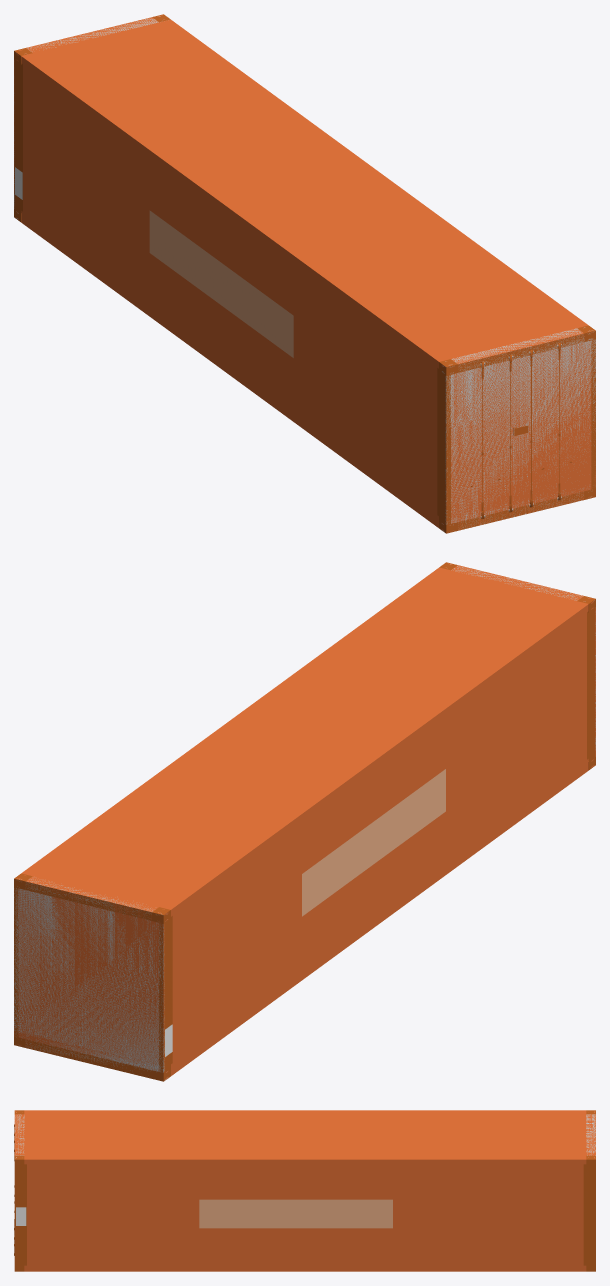
Rendered from s_containers_40_beamng.dae.
The picture shows the model from 3 angles, top to bottom: view 1: azimuth 30°, elevation 25°; view 2: azimuth 150°, elevation 25°; view 3: azimuth 270°, elevation 25°; orthographic projection. The views are drawn at different scales.
Parts seen in each view (by area): view 1: s_containers_40_beamng_a40, Colmesh_s_containers_40_beamng-1, s_containers_40_beamng_a1500, s_containers_40_beamng_a150, s_containers_40_beamng_a600; view 2: s_containers_40_beamng_a40, Colmesh_s_containers_40_beamng-1, s_containers_40_beamng_a150, s_containers_40_beamng_a1500, s_containers_40_beamng_a600; view 3: s_containers_40_beamng_a40, s_containers_40_beamng_a1500, s_containers_40_beamng_a600, Colmesh_s_containers_40_beamng-1, s_containers_40_beamng_a150.
Part boxes in pixels (left/top/right/bottom): s_containers_40_beamng_a40: left=14, top=15, right=595, bottom=532; Colmesh_s_containers_40_beamng-1: left=14, top=16, right=595, bottom=530; s_containers_40_beamng_a1500: left=14, top=14, right=595, bottom=533; s_containers_40_beamng_a150: left=446, top=331, right=595, bottom=533; s_containers_40_beamng_a600: left=14, top=16, right=595, bottom=532; s_containers_40_beamng_a40: left=14, top=563, right=595, bottom=1079; Colmesh_s_containers_40_beamng-1: left=14, top=564, right=595, bottom=1080; s_containers_40_beamng_a150: left=14, top=879, right=163, bottom=1081; s_containers_40_beamng_a1500: left=14, top=562, right=595, bottom=1081; s_containers_40_beamng_a600: left=14, top=564, right=595, bottom=1080; s_containers_40_beamng_a40: left=14, top=1110, right=595, bottom=1271; s_containers_40_beamng_a1500: left=14, top=1110, right=595, bottom=1271; s_containers_40_beamng_a600: left=14, top=1111, right=595, bottom=1271; Colmesh_s_containers_40_beamng-1: left=15, top=1114, right=595, bottom=1157; s_containers_40_beamng_a150: left=14, top=1159, right=595, bottom=1271.
Size of the model in its own units: 2.48 by 12.21 by 2.59.
